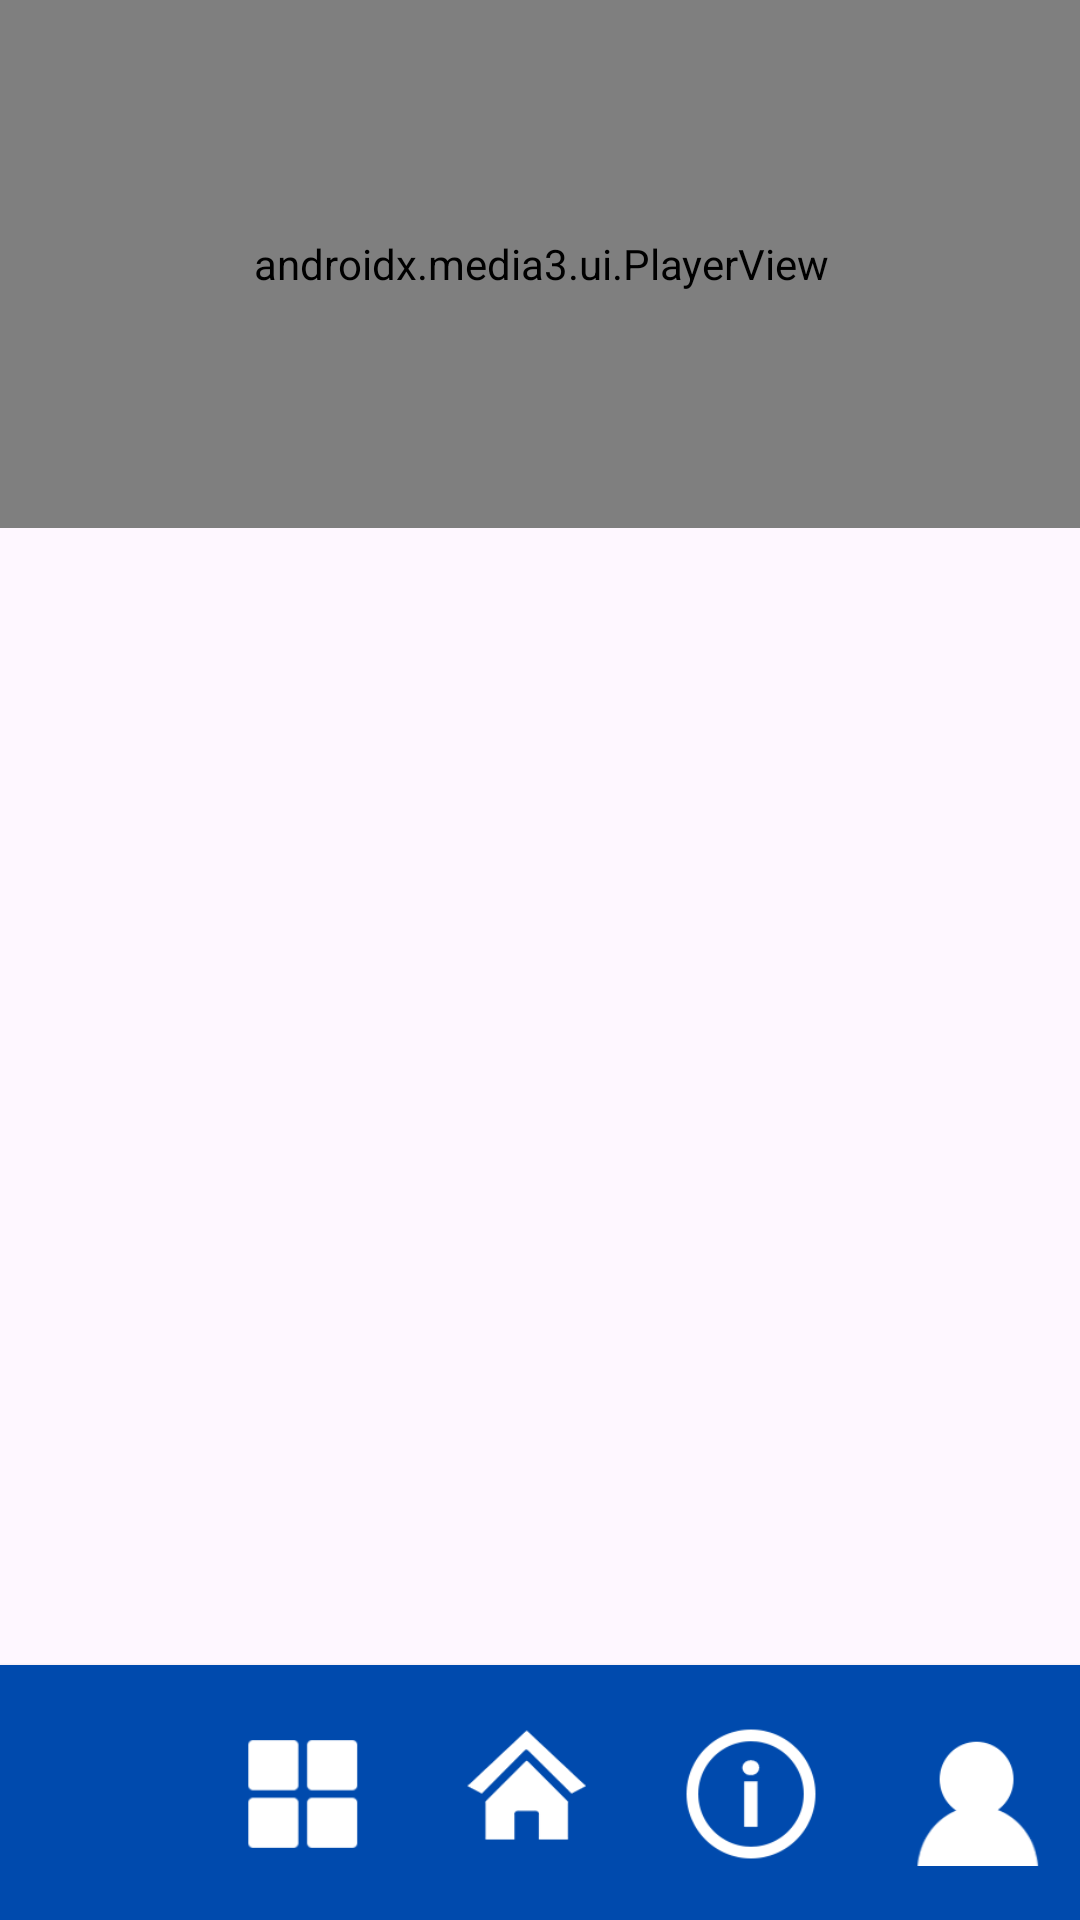

Icons on this 1080×1920 Android screen, each with the point to tap as (x,y):
abouticon: (751,1794)
categoryicon: (303,1794)
homeicon: (526,1785)
profileicon: (978,1803)
